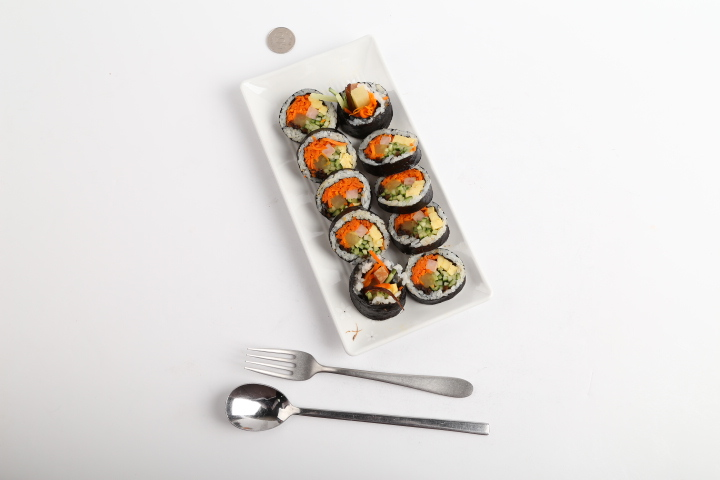dish: (239, 34, 492, 357)
ref_coin: (265, 27, 296, 54)
ref_fork: (245, 347, 324, 381)
ref_spoon: (226, 383, 305, 432)
김밥: (279, 80, 467, 322)
